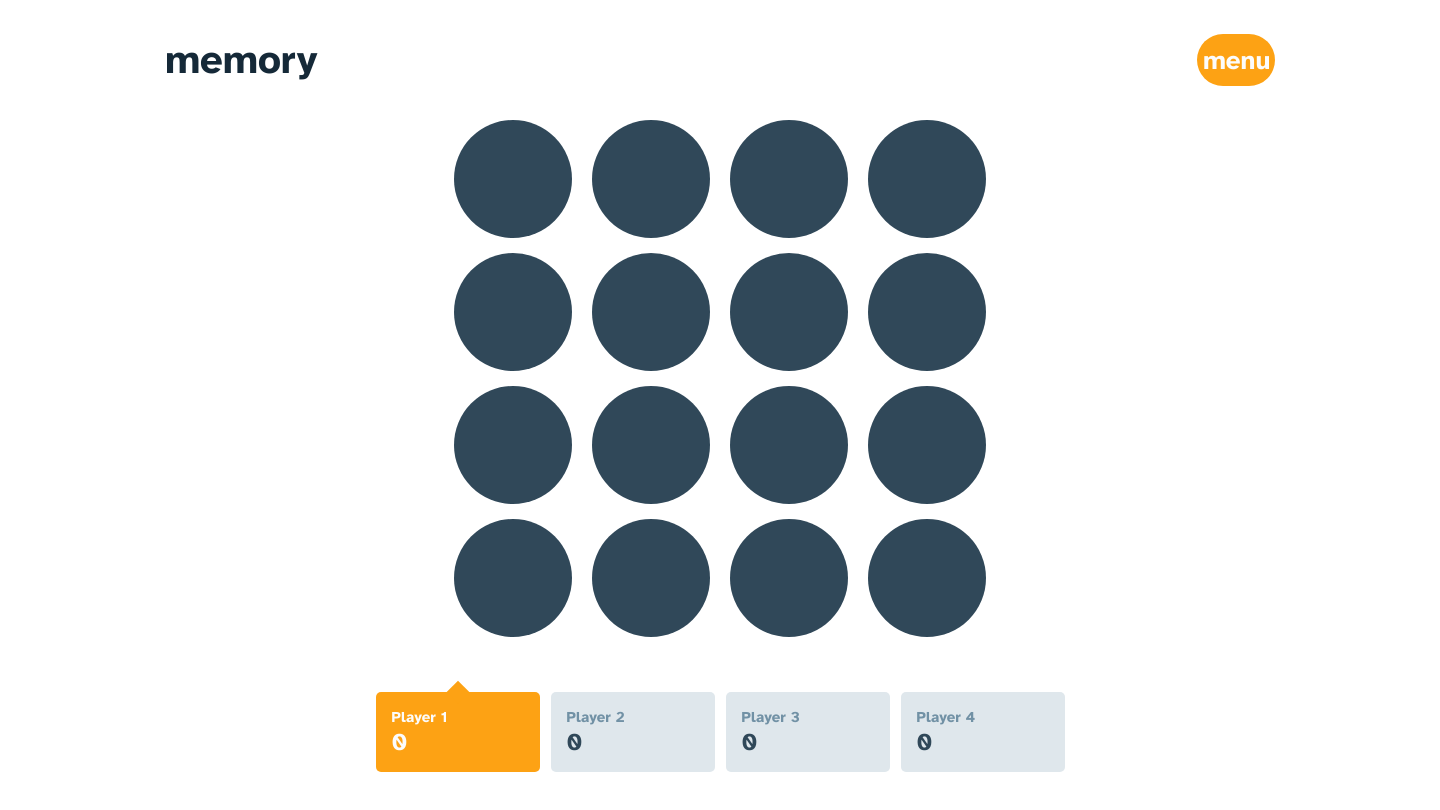
Test case: solo game small screen › should player's score is increase after a paired tiles
Click the 1st list item named "memory item".
click(513, 179)  # box [454,120,572,238]
Wait 650 ms
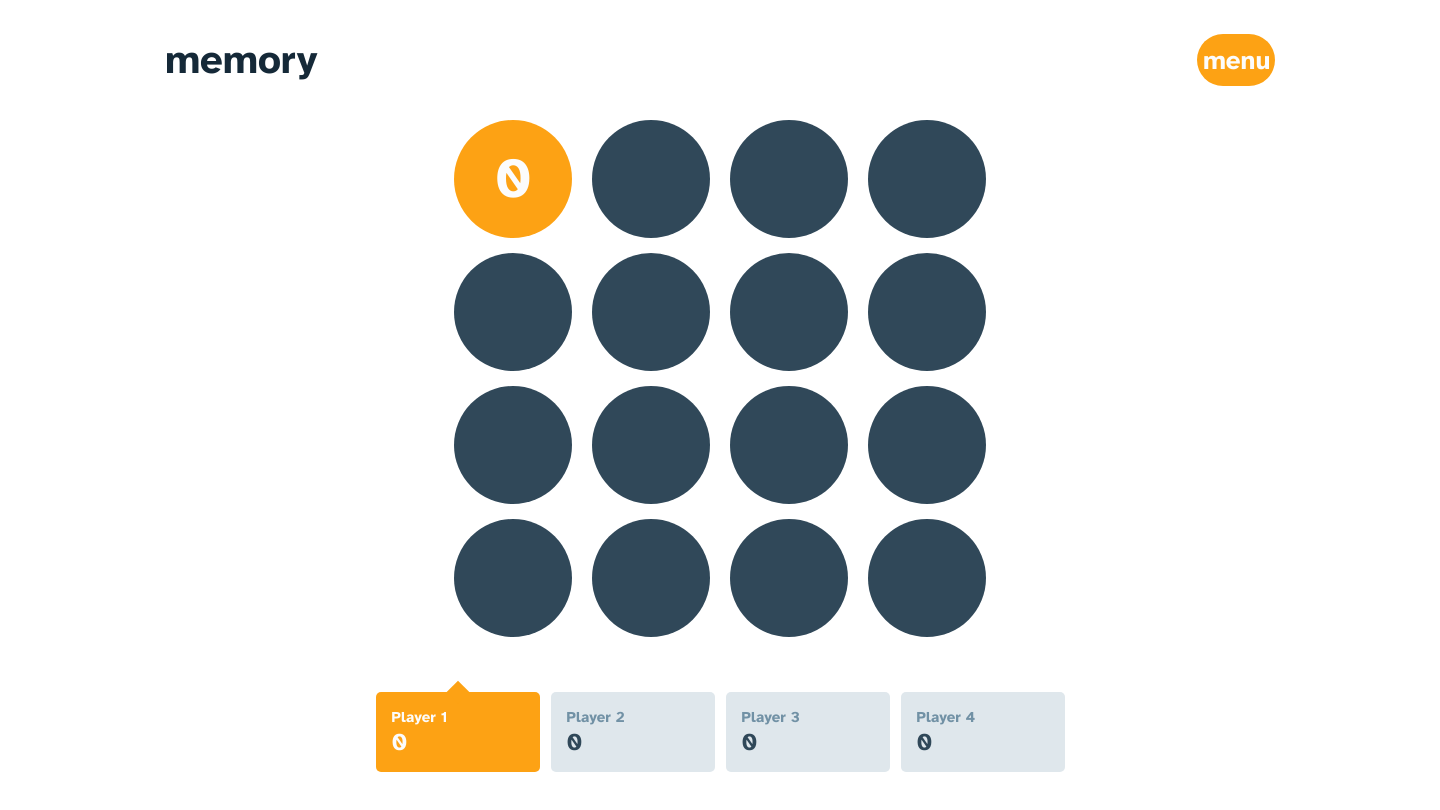
Click the 1st list item named "memory item".
click(651, 179)  # box [592,120,710,238]
Wait 650 ms
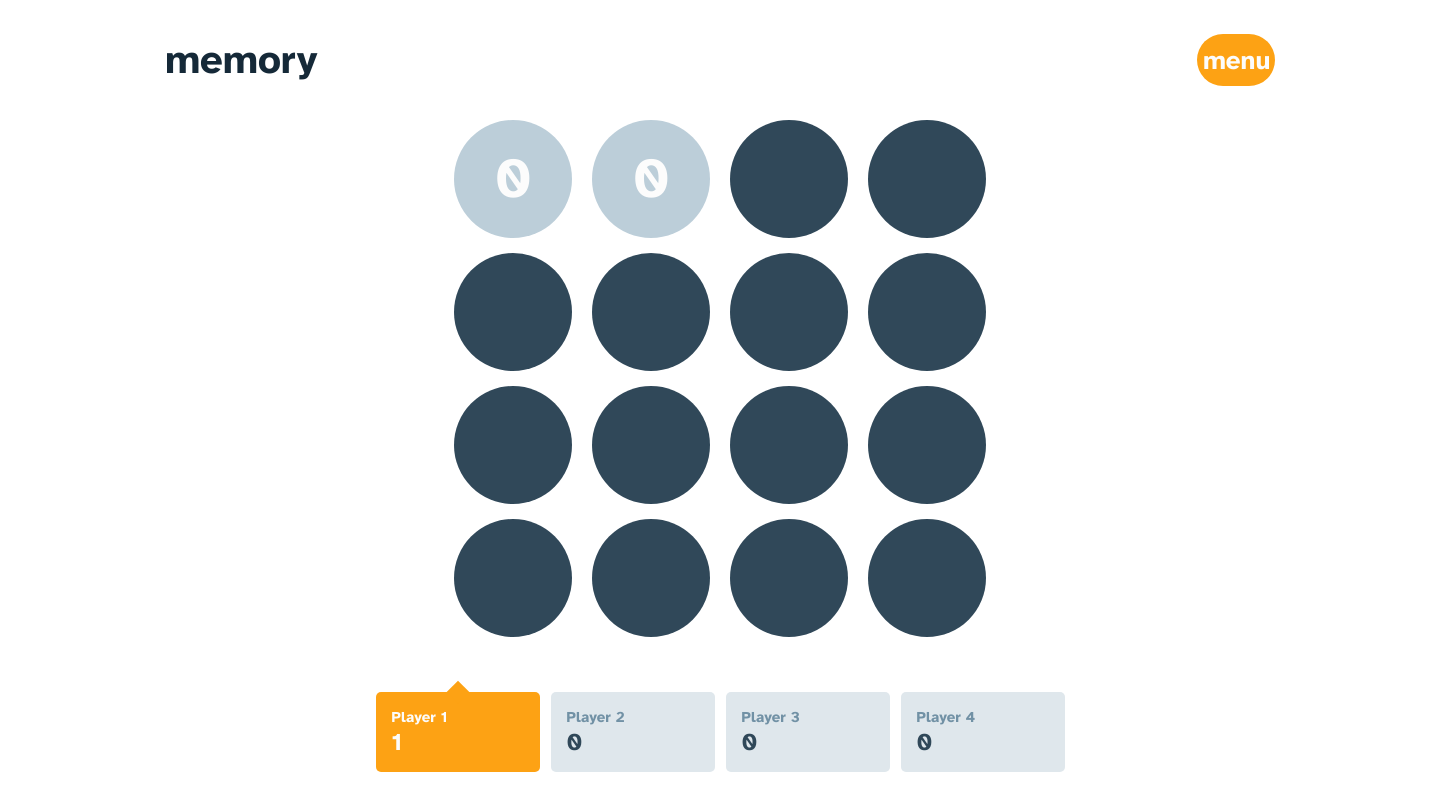
Expected: the message "Player 1 1" is shown, [376,692,540,772]
